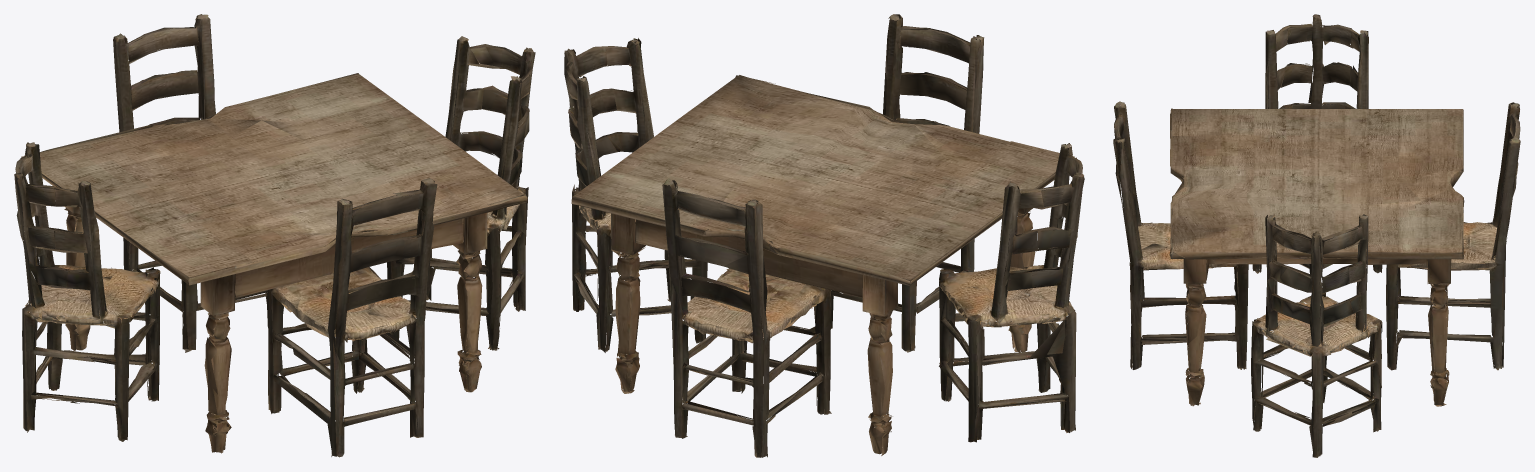
File: table-chairs-set-interior-lod.glb
3 views of the same model, side by side, from view 1: azimuth 30°, elevation 25°; view 2: azimuth 150°, elevation 25°; view 3: azimuth 270°, elevation 25° (orthographic). The views are drawn at different scales.
Parts seen in each view (by area): view 1: Mesh_0; view 2: Mesh_0; view 3: Mesh_0.
Part boxes in pixels (box(x1,y1,x2,y2)): Mesh_0: box(14, 14, 535, 457); Mesh_0: box(564, 14, 1084, 457); Mesh_0: box(1113, 14, 1520, 457).
Bounding box in the file's own units: 1.9 × 0.9285 × 1.47.
1 material, 1 textured.
